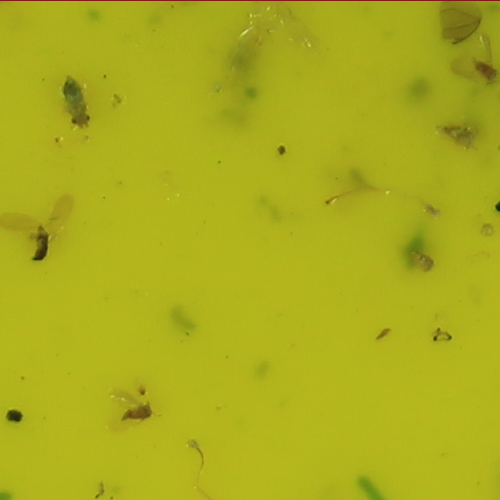Platyobria: (471, 57, 496, 81), (122, 403, 154, 420)
Psyllaephagus: (58, 70, 89, 131)
